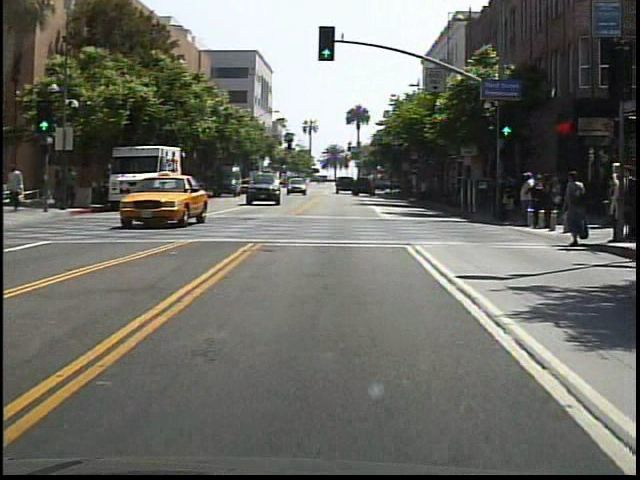person: (559, 168, 590, 245), (518, 166, 536, 226), (9, 163, 30, 213), (66, 166, 82, 209), (54, 168, 68, 209)
